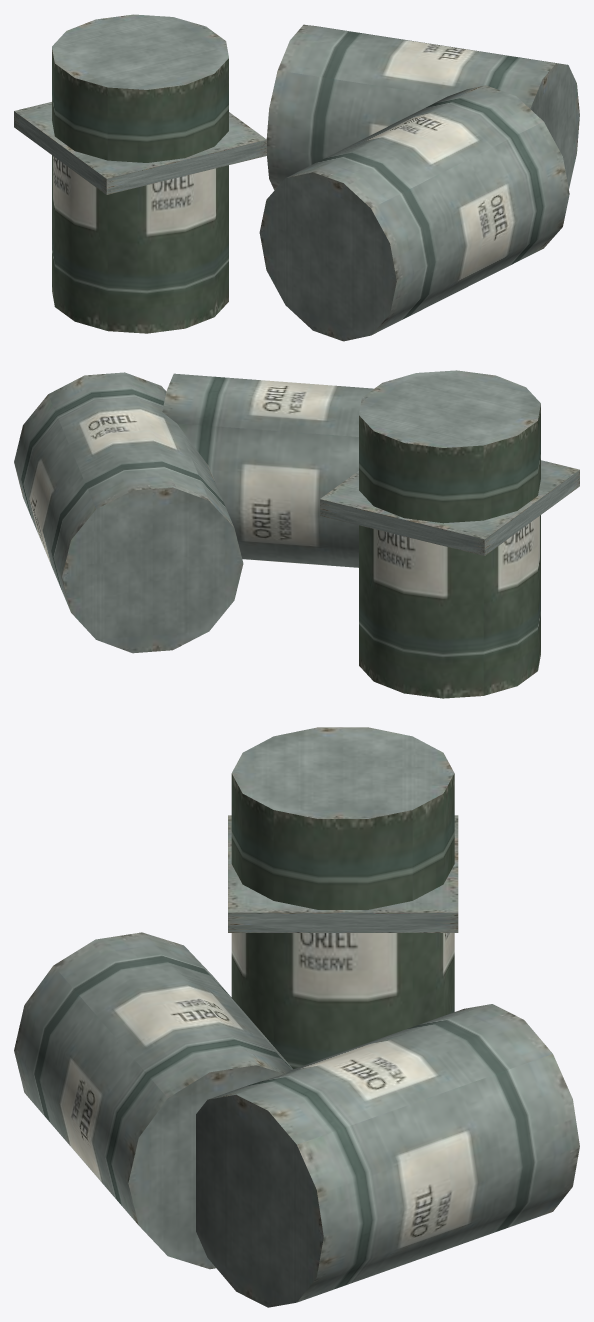
The model's file is fallen_barrels.glb.
3 views of the same model, one above another, from view 1: azimuth 30°, elevation 25°; view 2: azimuth 150°, elevation 25°; view 3: azimuth 270°, elevation 25° (orthographic). The views are drawn at different scales.
Parts seen in each view (by area): view 1: FallenBarrels; view 2: FallenBarrels; view 3: FallenBarrels.
Part boxes in pixels (x1,y1,x2,y2): FallenBarrels: [14, 14, 579, 341]; FallenBarrels: [14, 370, 579, 698]; FallenBarrels: [14, 727, 579, 1307].
Size of the model in its own units: 1.98 by 0.9 by 1.52.
1 material, 1 textured.
